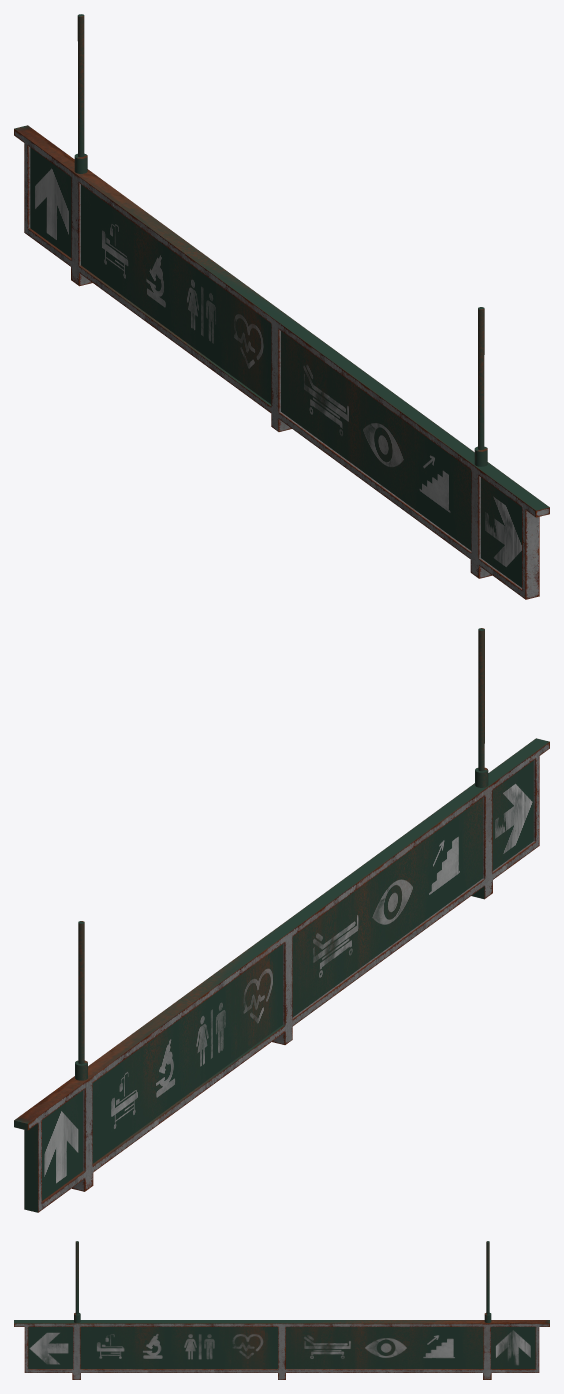
File: hospital_hanging_signage.glb
3 renders of one model, top to bottom at view 1: azimuth 30°, elevation 25°; view 2: azimuth 150°, elevation 25°; view 3: azimuth 270°, elevation 25°, orthographic. The views are drawn at different scales.
Visible parts, largest first — view 1: SM_signage, SM_signage_wire.004, SM_signage_wire; view 2: SM_signage, SM_signage_wire, SM_signage_wire.004; view 3: SM_signage, SM_signage_wire.004, SM_signage_wire.
Part boxes in pixels (x1,y1,x2,y2): SM_signage: (14, 125, 549, 599); SM_signage_wire.004: (74, 14, 87, 173); SM_signage_wire: (474, 307, 487, 466); SM_signage: (14, 738, 549, 1212); SM_signage_wire: (475, 628, 488, 787); SM_signage_wire.004: (75, 921, 87, 1080); SM_signage: (14, 1320, 549, 1379); SM_signage_wire.004: (484, 1241, 491, 1322); SM_signage_wire: (74, 1241, 80, 1322).
Size of the model in its own units: 6.53 by 119 by 425.
Materials: 1 (1 with a texture image).
